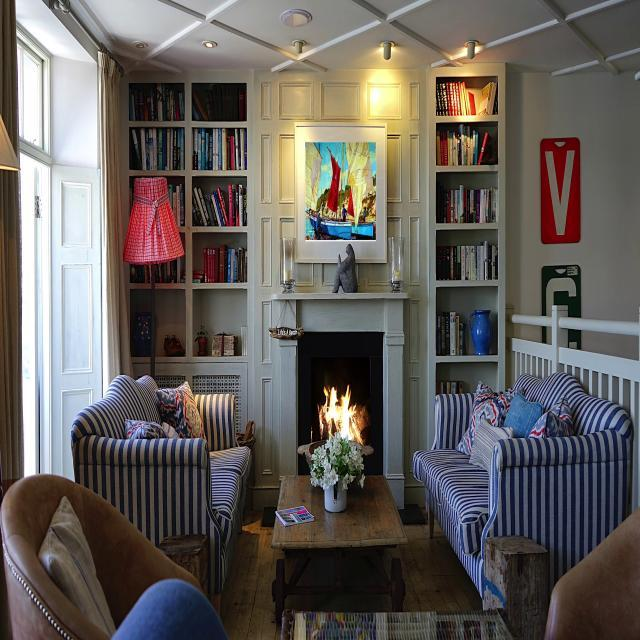Fire: (320, 376, 364, 446)
